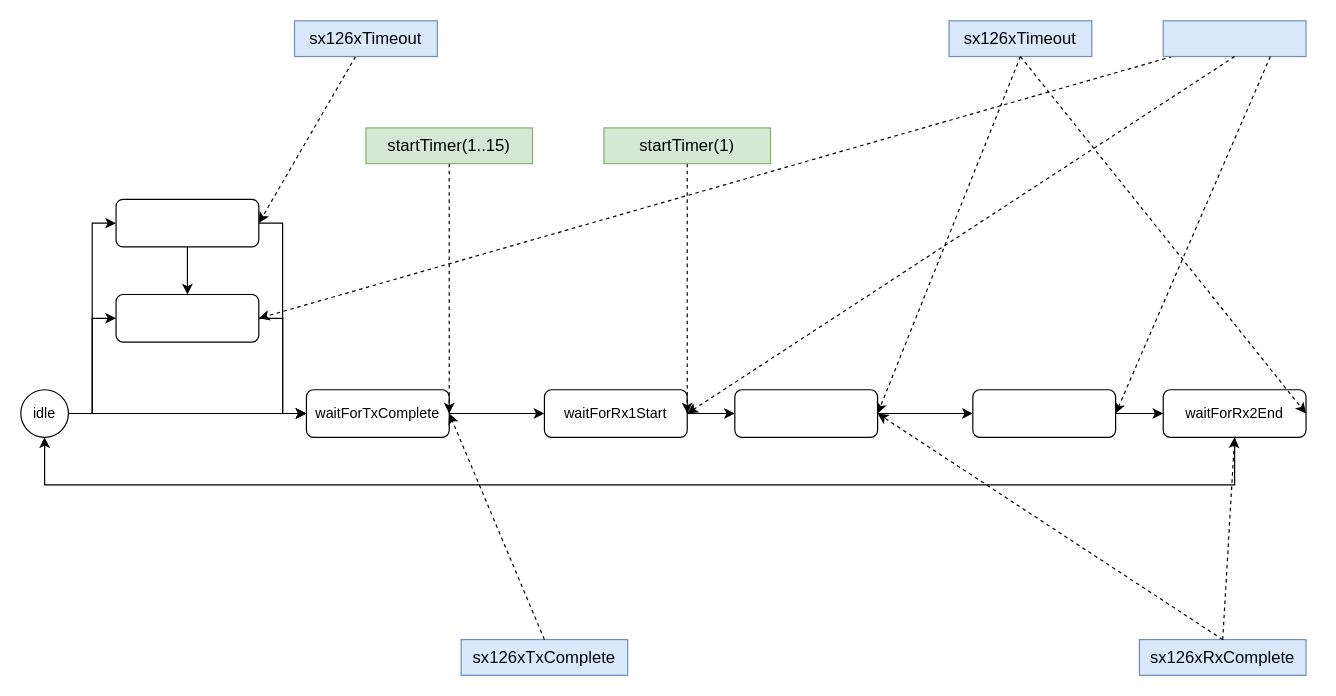
This 1336x696 diagram has some shape labels left out. The shapes that lost their labels are listed below. From the top down, each one's centre as x and y in pixels, then its label:
(x=1234, y=38): timeOut
(x=187, y=222): waitForCadEnd
(x=187, y=317): waitRandom TimeBeforeTransmit
(x=806, y=413): waitForRx1End
(x=1044, y=413): waitForRx2Start
